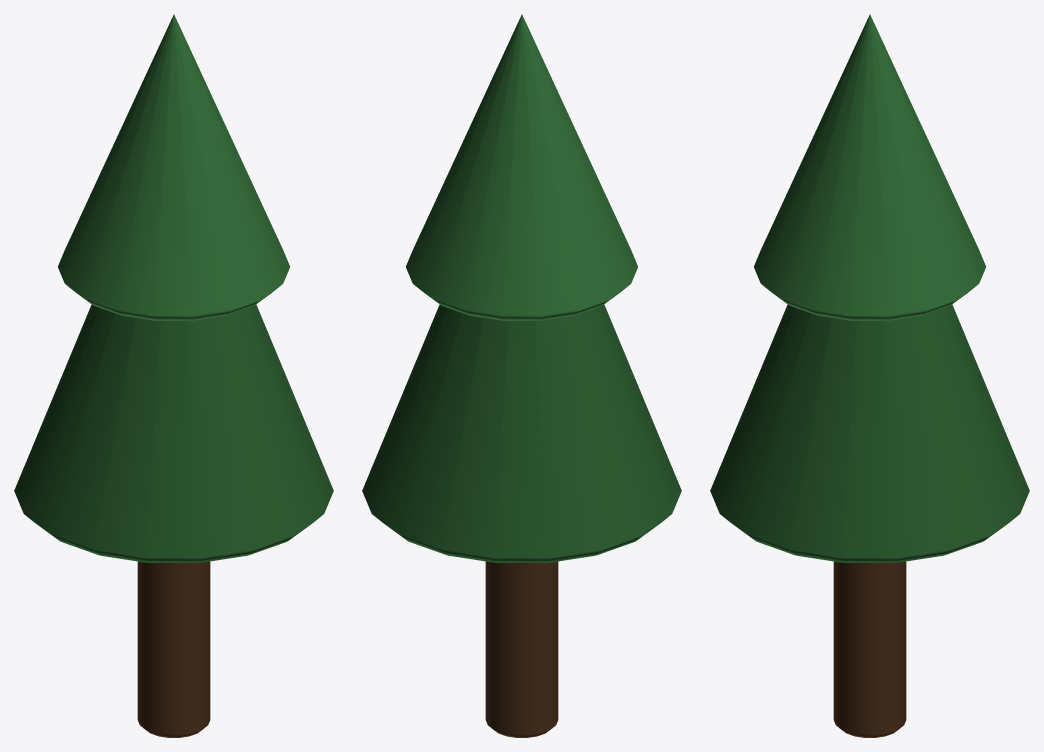
Rendered from tree.1d441a84.glb.
The picture shows the model from 3 angles, left to right: view 1: azimuth 30°, elevation 25°; view 2: azimuth 150°, elevation 25°; view 3: azimuth 270°, elevation 25°; orthographic projection.
Parts seen in each view (by area): view 1: body; view 2: body; view 3: body.
Part boxes in pixels (x1,y1,x2,y2): body: (14,14,333,737); body: (362,14,681,737); body: (710,14,1029,737).
Bounding box in the file's own units: 1.08 × 2.7 × 1.1.
